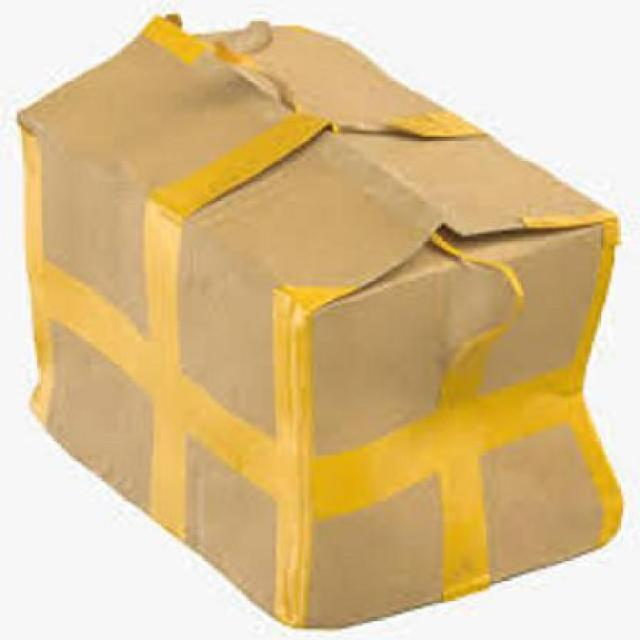defect: (11, 10, 634, 632)
